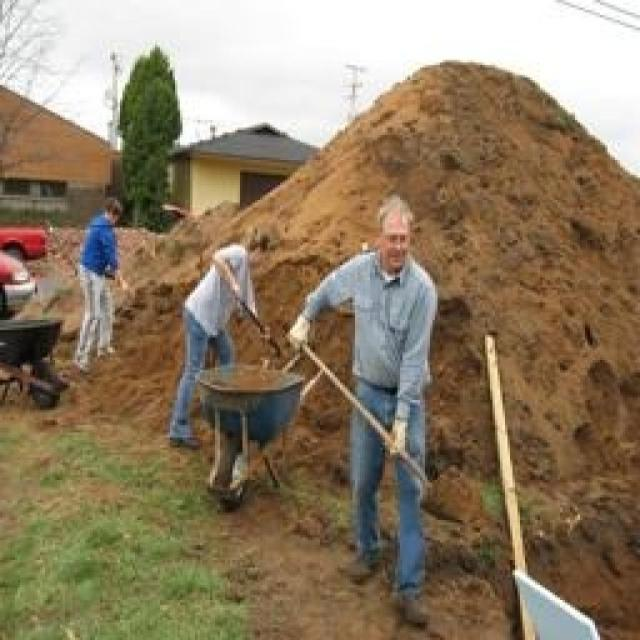Helmet: (330, 251, 455, 489), (174, 227, 244, 375), (65, 210, 143, 327), (365, 187, 429, 293), (234, 206, 286, 276), (95, 175, 149, 230)
